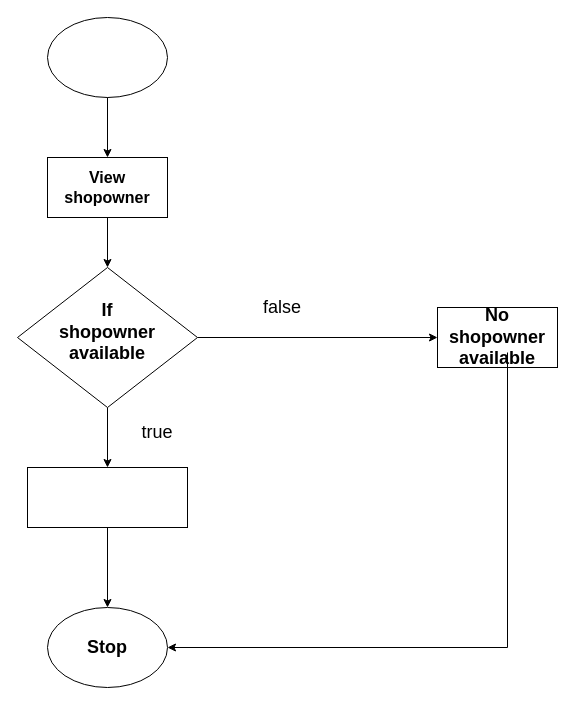
This 575x705 diagram has some shape labels left out. Here are the shapes that lost their labels. From the top down, the centre of each, then its label:
At point (107, 57): "Start".
At point (107, 497): "Display shopowner list".
